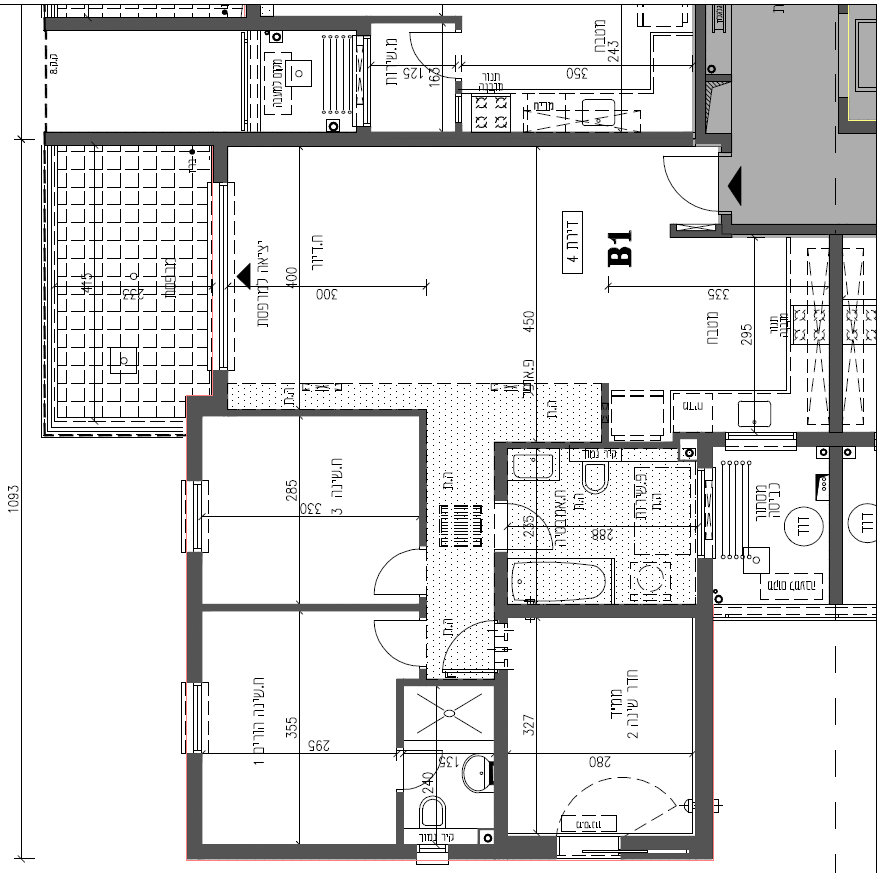door: (651, 152, 712, 213), (358, 541, 416, 598), (439, 615, 488, 675), (363, 615, 416, 669), (407, 26, 452, 88), (517, 498, 558, 557), (406, 746, 446, 792)
wall: (45, 134, 688, 145), (696, 562, 713, 855), (830, 235, 842, 607), (192, 846, 409, 861), (48, 18, 371, 28), (504, 608, 711, 616), (497, 680, 506, 855), (188, 557, 201, 674), (189, 409, 417, 415), (696, 7, 705, 142), (203, 604, 401, 610), (187, 399, 201, 476), (419, 411, 426, 543), (495, 442, 667, 447), (496, 557, 505, 620), (214, 375, 226, 413)
window: (213, 182, 234, 370), (353, 35, 376, 126), (182, 479, 210, 550), (725, 427, 798, 454), (184, 684, 210, 754), (416, 839, 449, 870)
